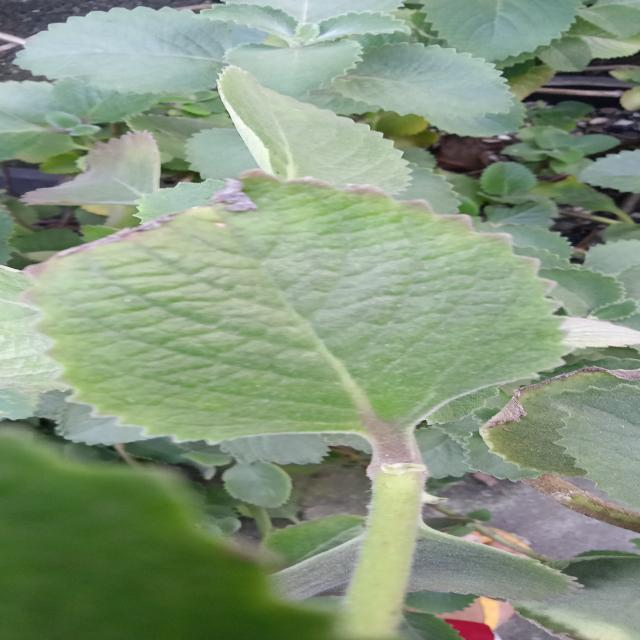Oregano: (1, 163, 626, 489)
